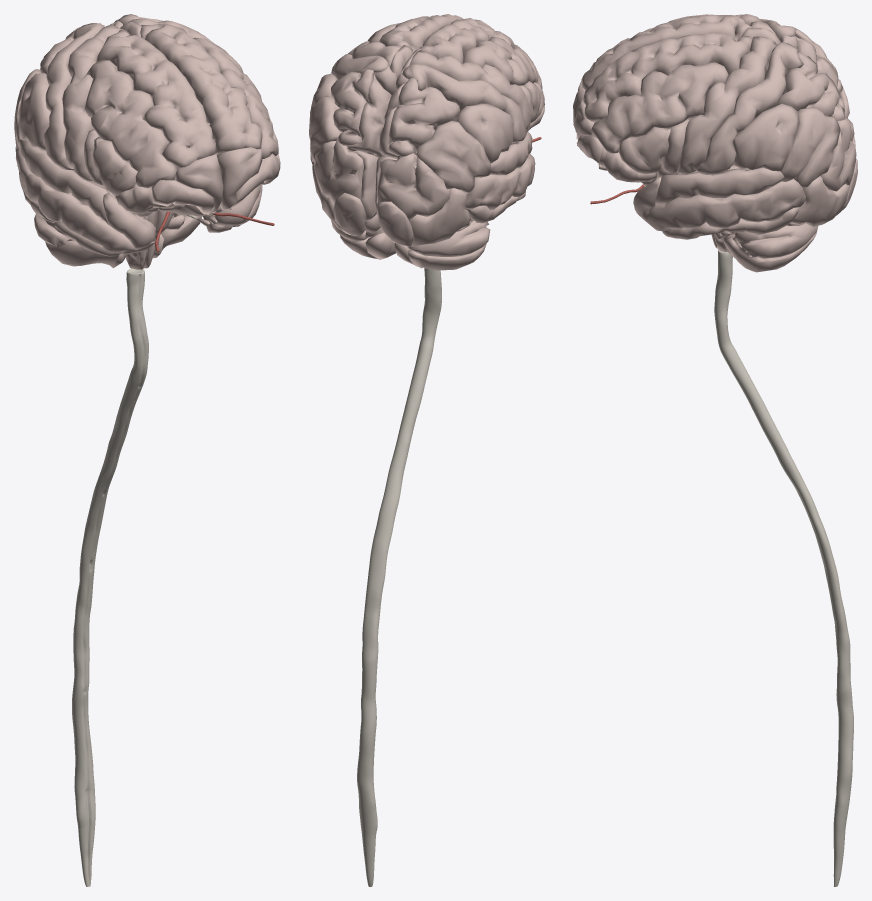
File: adult_female.nervous.LOD2.glb
The picture shows the model from 3 angles, left to right: view 1: azimuth 30°, elevation 25°; view 2: azimuth 150°, elevation 25°; view 3: azimuth 270°, elevation 25°; orthographic projection. The views are drawn at different scales.
Parts seen in each view (by area): view 1: ADULT.FEMALE.NERVOUS.SUPERIOR_FRONTAL_GYRUS.R, ADULT.FEMALE.NERVOUS.MIDDLE_FRONTAL_GYRUS.R, ADULT.FEMALE.NERVOUS.SUPERIOR_FRONTAL_GYRUS.L, ADULT.FEMALE.NERVOUS.PRECENTRAL_GYRUS.R, ADULT.FEMALE.NERVOUS.MIDDLE_TEMPORAL_GYRUS.R, ADULT.FEMALE.NERVOUS.POSTCENTRAL_GYRUS.R, ADULT.FEMALE.NERVOUS.SUPERIOR_TEMPORAL_GYRUS.R, ADULT.FEMALE.NERVOUS.MIDDLE_FRONTAL_GYRUS.L, ADULT.FEMALE.NERVOUS.SUPRAMARGINAL_GYRUS.R, ADULT.FEMALE.NERVOUS.ROSTRAL_GYRUS.L, ADULT.FEMALE.NERVOUS.LATERAL_HEMISPHERE_OF_CEREBELLUM.R, ADULT.FEMALE.NERVOUS.INFERIOR_FRONTAL_GYRUS_TRIANGULAR_PART. (+12 smaller); view 2: ADULT.FEMALE.NERVOUS.SUPRAPARIETAL_LOBULE.R, ADULT.FEMALE.NERVOUS.ANGULAR_GYRUS.R, ADULT.FEMALE.NERVOUS.SUPERIOR_OCCIPITAL_GYRUS.R, ADULT.FEMALE.NERVOUS.POSTCENTRAL_GYRUS.R, ADULT.FEMALE.NERVOUS.LATERAL_HEMISPHERE_OF_CEREBELLUM.R, ADULT.FEMALE.NERVOUS.SUPERIOR_OCCIPITAL_GYRUS.L, ADULT.FEMALE.NERVOUS.SUPRAPARIETAL_LOBULE.L, ADULT.FEMALE.NERVOUS.PRECENTRAL_GYRUS.R, ADULT.FEMALE.NERVOUS.SUPRAMARGINAL_GYRUS.R, ADULT.FEMALE.NERVOUS.MIDDLE_FRONTAL_GYRUS.R, ADULT.FEMALE.NERVOUS.SUPERIOR_FRONTAL_GYRUS.R, ADULT.FEMALE.NERVOUS.MIDDLE_TEMPORAL_GYRUS.R (+21 smaller); view 3: ADULT.FEMALE.NERVOUS.MIDDLE_FRONTAL_GYRUS.L, ADULT.FEMALE.NERVOUS.SUPERIOR_FRONTAL_GYRUS.L, ADULT.FEMALE.NERVOUS.MIDDLE_TEMPORAL_GYRUS.L, ADULT.FEMALE.NERVOUS.PRECENTRAL_GYRUS.L, ADULT.FEMALE.NERVOUS.POSTCENTRAL_GYRUS.L, ADULT.FEMALE.NERVOUS.SUPRAMARGINAL_GYRUS.L, ADULT.FEMALE.NERVOUS.ANGULAR_GYRUS.L, ADULT.FEMALE.NERVOUS.SUPERIOR_TEMPORAL_GYRUS.L, ADULT.FEMALE.NERVOUS.LATERAL_HEMISPHERE_OF_CEREBELLUM.L, ADULT.FEMALE.NERVOUS.SUPERIOR_FRONTAL_GYRUS.R, ADULT.FEMALE.NERVOUS.SUPRAPARIETAL_LOBULE.L, ADULT.FEMALE.NERVOUS.INFERIOR_FRONTAL_GYRUS_TRIANGULAR_PART. (+7 smaller).
Part boxes in pixels (bbox=[...]): ADULT.FEMALE.NERVOUS.SUPERIOR_FRONTAL_GYRUS.R: bbox=[96, 30, 216, 168]; ADULT.FEMALE.NERVOUS.MIDDLE_FRONTAL_GYRUS.R: bbox=[84, 60, 177, 188]; ADULT.FEMALE.NERVOUS.SUPERIOR_FRONTAL_GYRUS.L: bbox=[140, 23, 262, 153]; ADULT.FEMALE.NERVOUS.PRECENTRAL_GYRUS.R: bbox=[62, 25, 120, 181]; ADULT.FEMALE.NERVOUS.MIDDLE_TEMPORAL_GYRUS.R: bbox=[16, 148, 135, 252]; ADULT.FEMALE.NERVOUS.POSTCENTRAL_GYRUS.R: bbox=[44, 23, 104, 169]; ADULT.FEMALE.NERVOUS.SUPERIOR_TEMPORAL_GYRUS.R: bbox=[18, 139, 109, 224]; ADULT.FEMALE.NERVOUS.MIDDLE_FRONTAL_GYRUS.L: bbox=[194, 37, 278, 158]; ADULT.FEMALE.NERVOUS.SUPRAMARGINAL_GYRUS.R: bbox=[18, 73, 50, 150]; ADULT.FEMALE.NERVOUS.ROSTRAL_GYRUS.L: bbox=[217, 147, 262, 210]; ADULT.FEMALE.NERVOUS.LATERAL_HEMISPHERE_OF_CEREBELLUM.R: bbox=[34, 213, 119, 266]; ADULT.FEMALE.NERVOUS.INFERIOR_FRONTAL_GYRUS_TRIANGULAR_PART.: bbox=[92, 136, 137, 195]; ADULT.FEMALE.NERVOUS.SUPRAPARIETAL_LOBULE.R: bbox=[388, 77, 459, 156]; ADULT.FEMALE.NERVOUS.ANGULAR_GYRUS.R: bbox=[416, 120, 490, 192]; ADULT.FEMALE.NERVOUS.SUPERIOR_OCCIPITAL_GYRUS.R: bbox=[378, 153, 451, 220]; ADULT.FEMALE.NERVOUS.POSTCENTRAL_GYRUS.R: bbox=[402, 64, 527, 142]; ADULT.FEMALE.NERVOUS.LATERAL_HEMISPHERE_OF_CEREBELLUM.R: bbox=[407, 220, 490, 270]; ADULT.FEMALE.NERVOUS.SUPERIOR_OCCIPITAL_GYRUS.L: bbox=[314, 138, 363, 204]; ADULT.FEMALE.NERVOUS.SUPRAPARIETAL_LOBULE.L: bbox=[331, 68, 374, 145]; ADULT.FEMALE.NERVOUS.PRECENTRAL_GYRUS.R: bbox=[409, 50, 531, 131]; ADULT.FEMALE.NERVOUS.SUPRAMARGINAL_GYRUS.R: bbox=[457, 103, 513, 163]; ADULT.FEMALE.NERVOUS.MIDDLE_FRONTAL_GYRUS.R: bbox=[463, 37, 542, 89]; ADULT.FEMALE.NERVOUS.SUPERIOR_FRONTAL_GYRUS.R: bbox=[419, 18, 520, 63]; ADULT.FEMALE.NERVOUS.MIDDLE_TEMPORAL_GYRUS.R: bbox=[465, 153, 535, 209]; ADULT.FEMALE.NERVOUS.MIDDLE_FRONTAL_GYRUS.L: bbox=[591, 62, 728, 153]; ADULT.FEMALE.NERVOUS.SUPERIOR_FRONTAL_GYRUS.L: bbox=[583, 33, 752, 122]; ADULT.FEMALE.NERVOUS.MIDDLE_TEMPORAL_GYRUS.L: bbox=[640, 178, 805, 231]; ADULT.FEMALE.NERVOUS.PRECENTRAL_GYRUS.L: bbox=[676, 36, 776, 174]; ADULT.FEMALE.NERVOUS.POSTCENTRAL_GYRUS.L: bbox=[696, 42, 803, 174]; ADULT.FEMALE.NERVOUS.SUPRAMARGINAL_GYRUS.L: bbox=[733, 103, 798, 171]; ADULT.FEMALE.NERVOUS.ANGULAR_GYRUS.L: bbox=[781, 107, 840, 188]; ADULT.FEMALE.NERVOUS.SUPERIOR_TEMPORAL_GYRUS.L: bbox=[655, 167, 784, 205]; ADULT.FEMALE.NERVOUS.LATERAL_HEMISPHERE_OF_CEREBELLUM.L: bbox=[719, 223, 818, 272]; ADULT.FEMALE.NERVOUS.SUPERIOR_FRONTAL_GYRUS.R: bbox=[581, 14, 751, 89]; ADULT.FEMALE.NERVOUS.SUPRAPARIETAL_LOBULE.L: bbox=[776, 51, 845, 120]; ADULT.FEMALE.NERVOUS.INFERIOR_FRONTAL_GYRUS_TRIANGULAR_PART.: bbox=[618, 126, 670, 173].
Size of the model in its own units: 0.1361 by 0.5553 by 0.1669.
